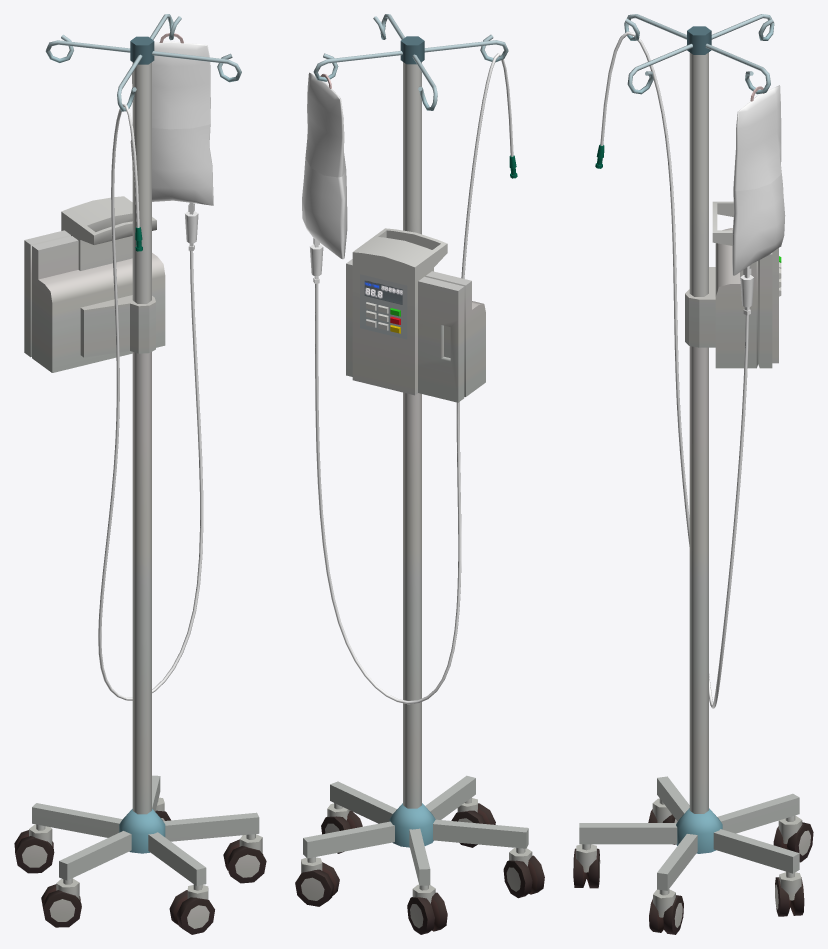
Rendered from Pfb_JLAB_Infusion_Pumo.fbx.
The picture shows the model from 3 angles, left to right: view 1: azimuth 30°, elevation 25°; view 2: azimuth 150°, elevation 25°; view 3: azimuth 270°, elevation 25°; orthographic projection.
Parts seen in each view (by area): view 1: Color, Glass; view 2: Color, Glass, Monitors; view 3: Color, Glass.
Part boxes in pixels (x1,y1,x2,y2): Color: (14, 14, 266, 934); Glass: (98, 41, 213, 700); Color: (295, 14, 544, 934); Glass: (302, 53, 513, 704); Monitors: (364, 280, 402, 304); Color: (573, 14, 813, 934); Glass: (600, 31, 785, 708).
Size of the model in its own units: 0.4564 by 1.66 by 0.4219.
Materials: 3 (3 with a texture image).
